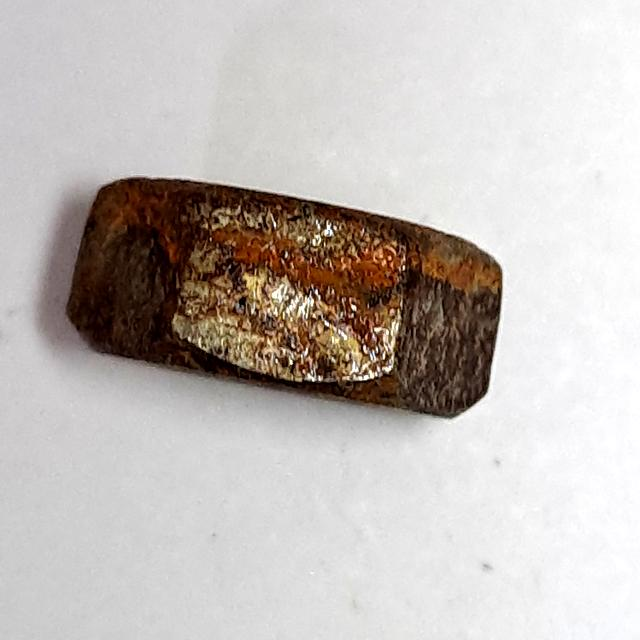Side_Rust: (55, 162, 522, 428)
